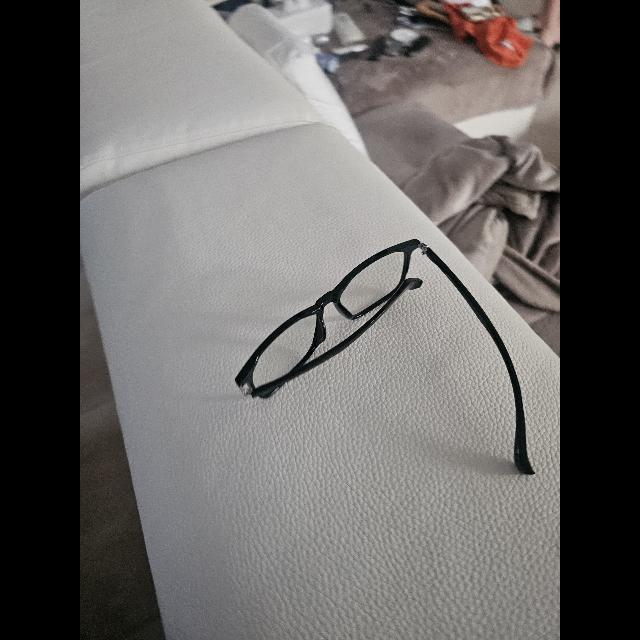glasses: (236, 240, 534, 474)
